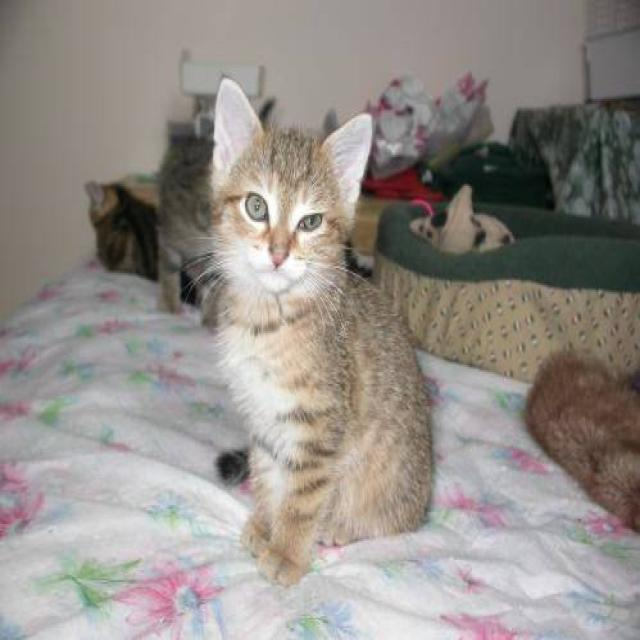cat: (184, 75, 433, 587)
